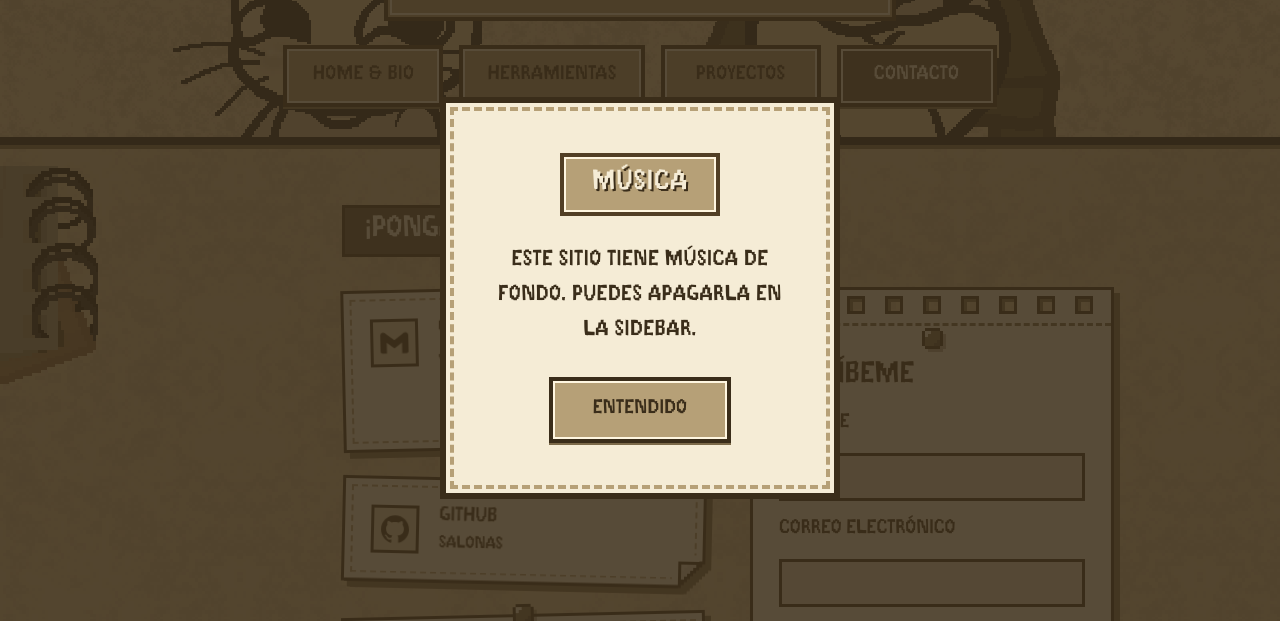
it: asks for a valid email address
Click the button "Entendido" at (640, 410), box [549,377,731,443]
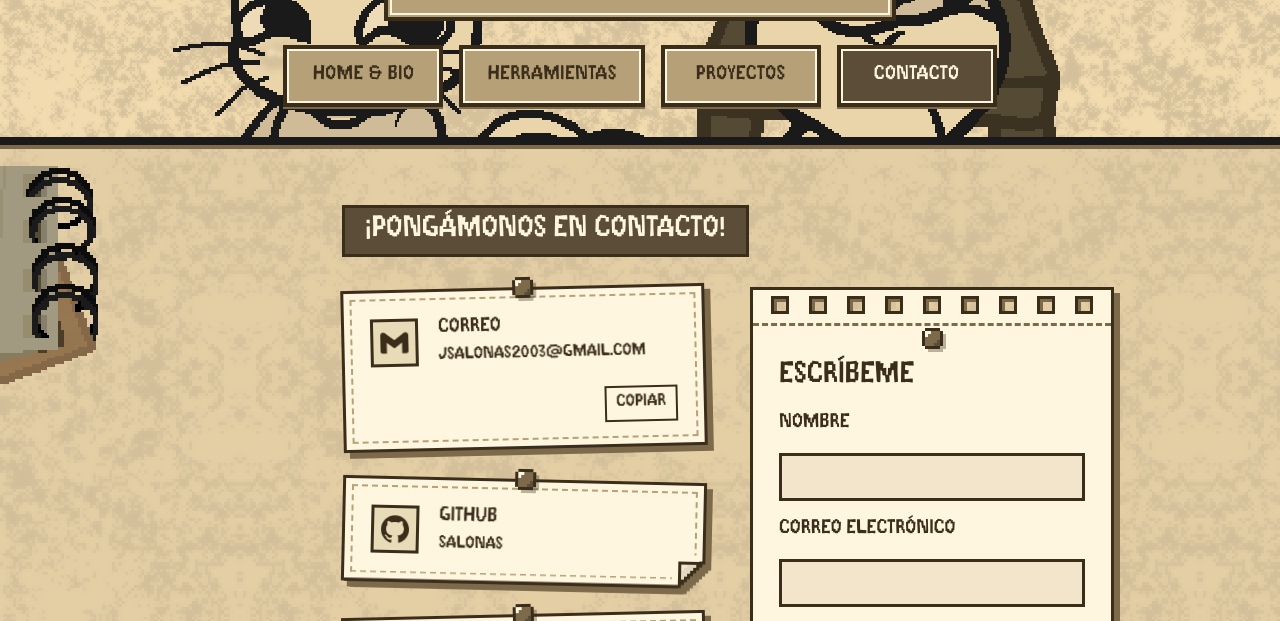
Type "Ana" into the field labelled "Nombre" at (932, 477), box [779,453,1085,501]
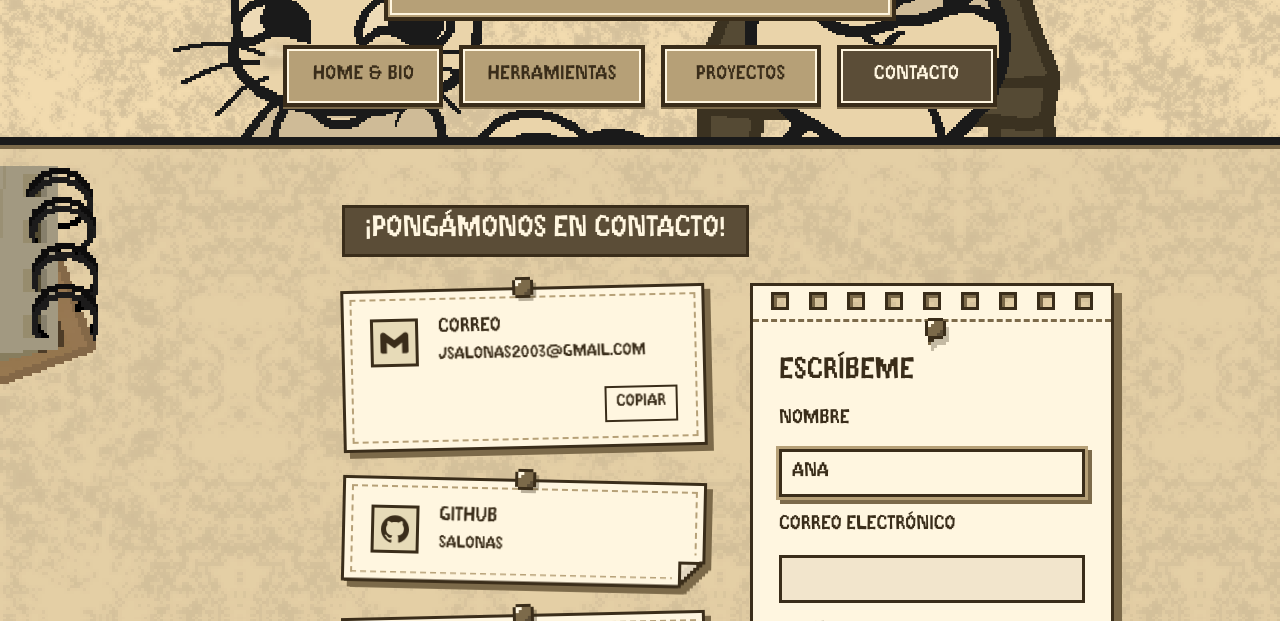
Type "ana@" into the field labelled "Correo electrónico" at (932, 579), box [779,555,1085,603]
(page scrolled)
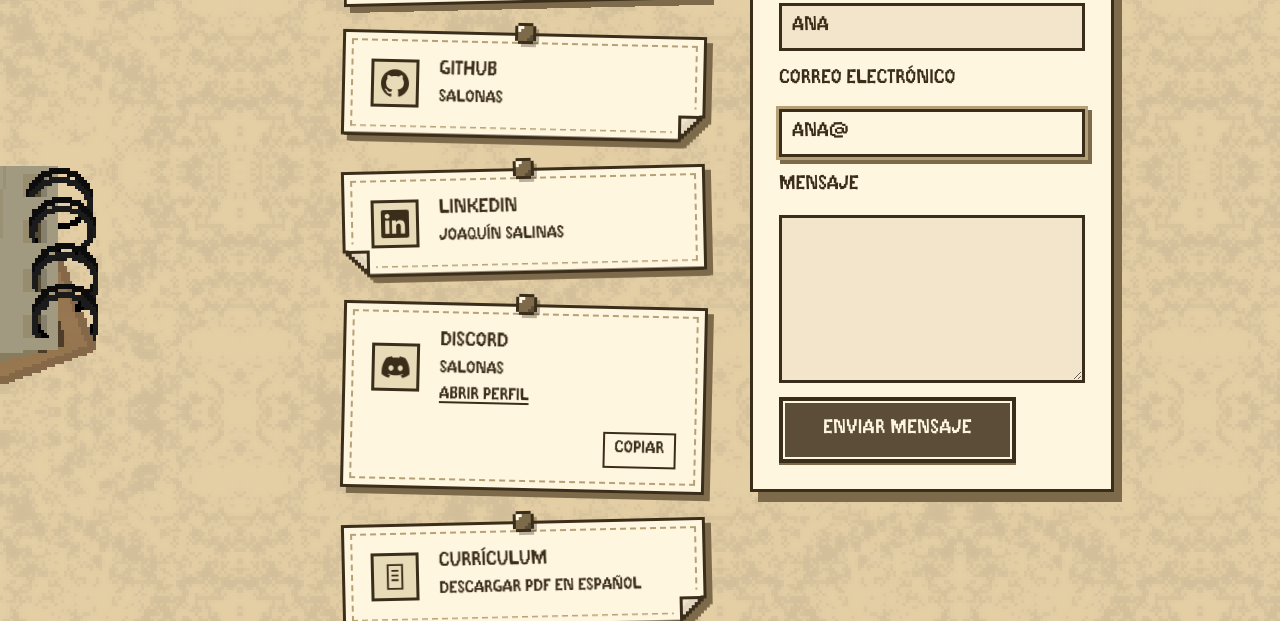
Type "Hola" into the text box labelled "Mensaje" at (932, 299), box [779,215,1085,383]
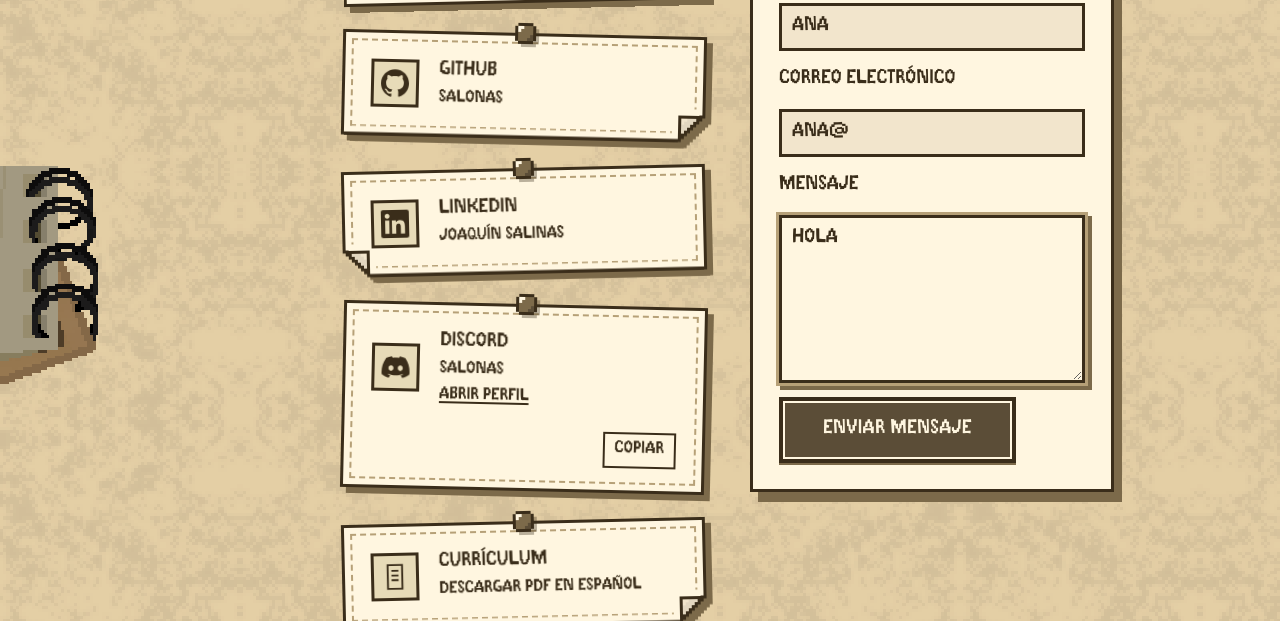
Click the button "Enviar mensaje" at (897, 430), box [779,397,1016,463]
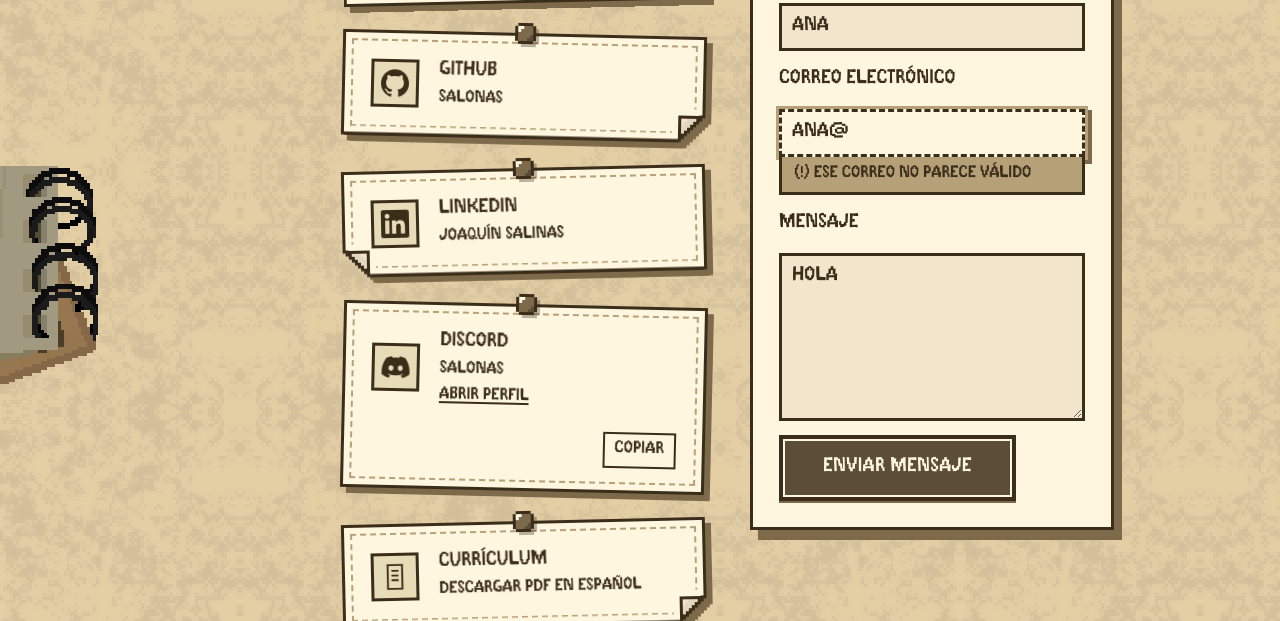
Expected: the text "(!) Ese correo no parece válido" is shown, [779,157,1085,195]
